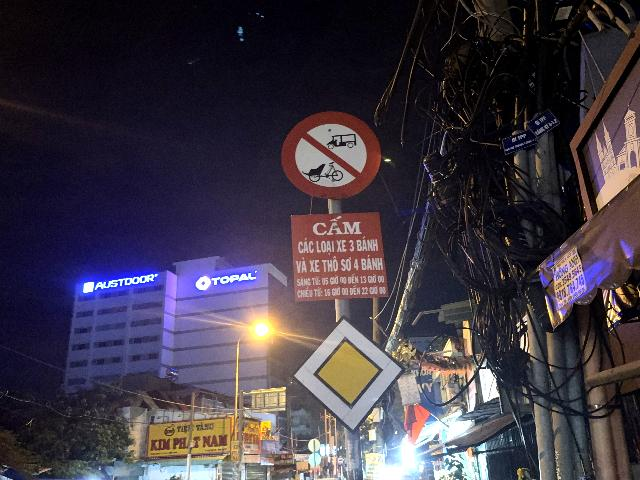bat-dau-duong-uu-tien: (292, 315, 407, 435)
cam-xe-3-banh-xe-tho-so-4-banh: (281, 110, 381, 200)
